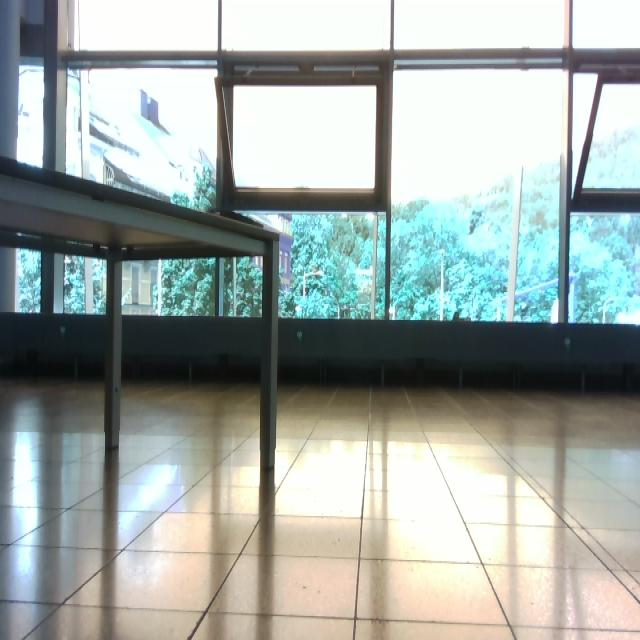door: (110, 248, 275, 469)
light bulb: (303, 271, 323, 299), (550, 298, 559, 324)
pillar: (104, 253, 123, 449)
tiled floor: (2, 379, 639, 639)
window: (2, 1, 639, 329)
